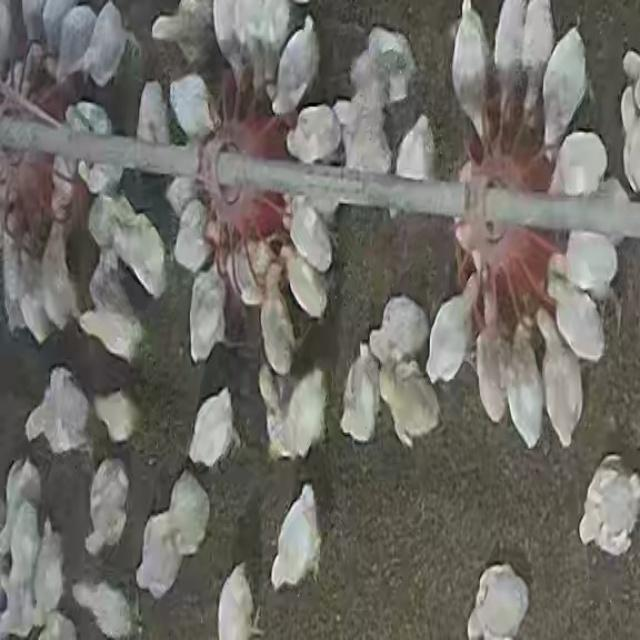chicken: (576, 454, 640, 558), (106, 197, 167, 300), (262, 363, 326, 461), (25, 364, 92, 455), (536, 310, 580, 448), (451, 1, 491, 144), (502, 317, 545, 449), (548, 268, 604, 366), (267, 489, 324, 585), (379, 365, 446, 443), (423, 286, 474, 386), (518, 0, 556, 131), (272, 15, 319, 119), (187, 383, 244, 468), (150, 1, 218, 70), (84, 458, 130, 558), (367, 294, 431, 364), (39, 221, 77, 337), (471, 564, 531, 635), (473, 305, 508, 426), (162, 470, 211, 555), (88, 244, 140, 324), (1, 220, 35, 338), (71, 576, 135, 638), (76, 307, 142, 367), (82, 2, 128, 88), (135, 512, 180, 599), (216, 564, 268, 638), (188, 268, 226, 368), (561, 229, 616, 297), (287, 197, 334, 276), (553, 130, 609, 196), (283, 244, 329, 324), (340, 348, 378, 444), (31, 522, 66, 626), (286, 103, 342, 165), (55, 6, 98, 86), (259, 284, 295, 378), (172, 200, 214, 278), (167, 72, 215, 139), (493, 1, 526, 96), (90, 388, 138, 449), (394, 114, 435, 183), (258, 362, 284, 451), (546, 264, 584, 314)
